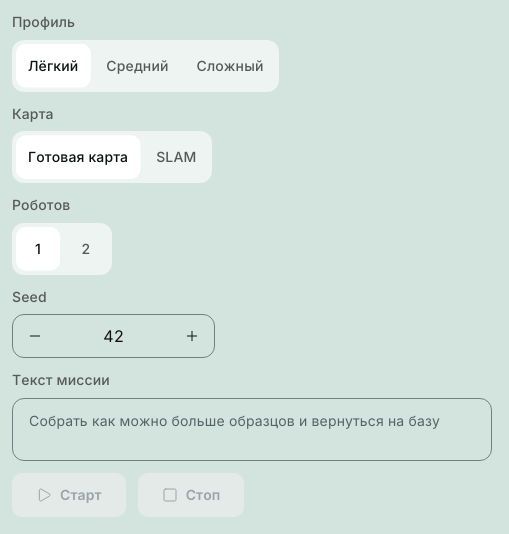
Test: Start and Stop blockers in the form › explains the command_busy Start blocker
Focus the button "Старт": (69, 495) [12,473,126,517]
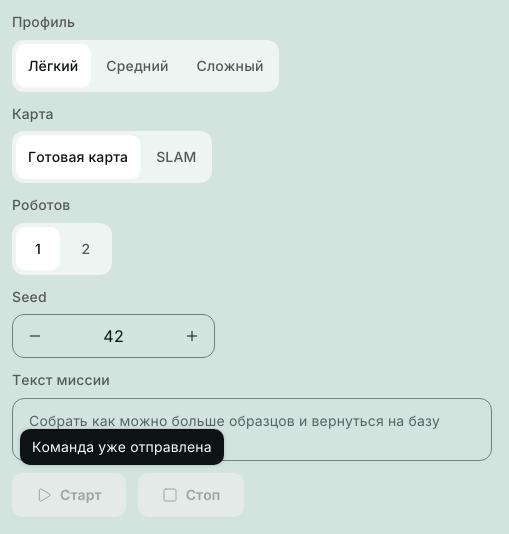
Check: the tooltip "Команда уже отправлена" is shown, box [20,429,224,465]
